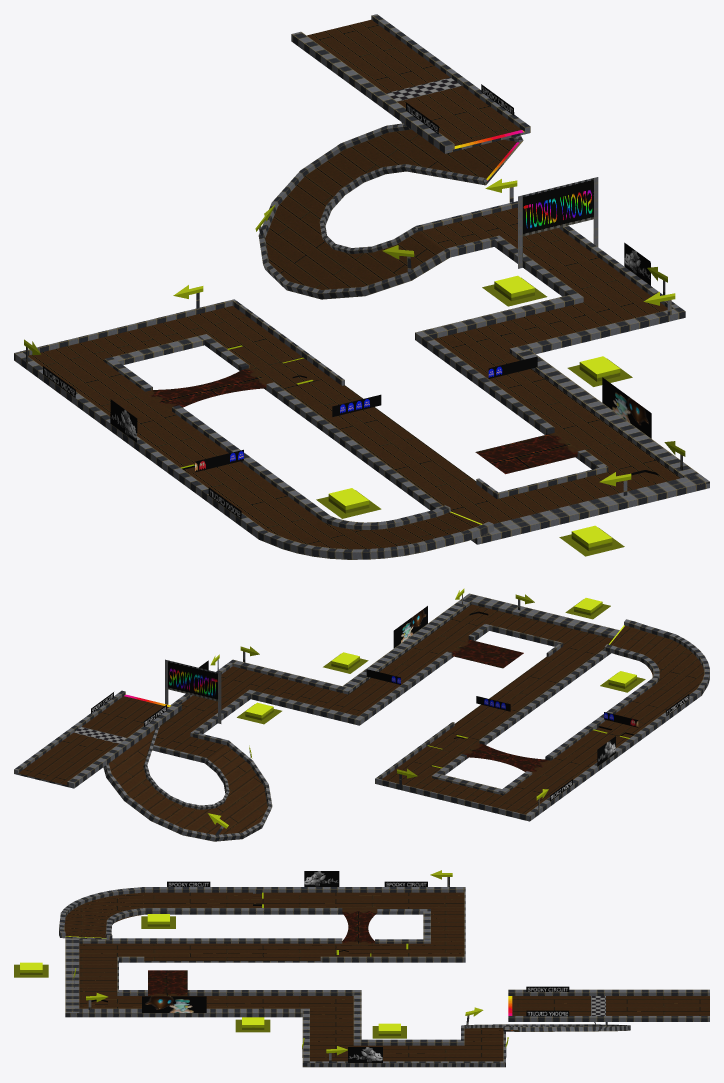
3 views of the same model, one above another, from view 1: azimuth 30°, elevation 25°; view 2: azimuth 150°, elevation 25°; view 3: azimuth 270°, elevation 25° (orthographic). The views are drawn at different scales.
Parts seen in each view (by area): view 1: course_model-SKP--Road.001, course_model-SKP--Wall, course_model-SKP--Bridges, course_model-SKP--Banner.001, course_model-SKP--ArrowBoost, course_model-SKP--Boosts, course_model-SKP--Ghosts, course_model-SKP--Decor2, course_model-SKP--TransBoost, course_model-SKP--ChisAd, course_model-SKP--Decor; view 2: course_model-SKP--Road.001, course_model-SKP--Wall, course_model-SKP--Bridges, course_model-SKP--Banner.001, course_model-SKP--ArrowBoost, course_model-SKP--Boosts, course_model-SKP--Ghosts, course_model-SKP--TransBoost, course_model-SKP--ChisAd, course_model-SKP--Decor; view 3: course_model-SKP--Road.001, course_model-SKP--Wall, course_model-SKP--Bridges, course_model-SKP--ArrowBoost, course_model-SKP--Decor2, course_model-SKP--ChisAd, course_model-SKP--Decor, course_model-SKP--Boosts, course_model-SKP--TransBoost.
Part boxes in pixels (<box>): course_model-SKP--Road.001: <box>28,19,680,549</box>; course_model-SKP--Wall: <box>14,14,709,559</box>; course_model-SKP--Bridges: <box>145,368,578,474</box>; course_model-SKP--Banner.001: <box>518,177,598,268</box>; course_model-SKP--ArrowBoost: <box>24,179,685,556</box>; course_model-SKP--Boosts: <box>180,275,619,543</box>; course_model-SKP--Ghosts: <box>195,356,537,472</box>; course_model-SKP--Decor2: <box>110,242,650,442</box>; course_model-SKP--TransBoost: <box>328,281,620,550</box>; course_model-SKP--ChisAd: <box>602,377,651,438</box>; course_model-SKP--Decor: <box>43,84,514,518</box>; course_model-SKP--Road.001: <box>18,604,704,834</box>; course_model-SKP--Wall: <box>14,593,709,841</box>; course_model-SKP--Bridges: <box>451,639,550,773</box>; course_model-SKP--Banner.001: <box>165,659,221,723</box>; course_model-SKP--ArrowBoost: <box>208,588,645,828</box>; course_model-SKP--Boosts: <box>245,598,636,768</box>; course_model-SKP--Ghosts: <box>366,669,638,727</box>; course_model-SKP--TransBoost: <box>245,602,636,720</box>; course_model-SKP--ChisAd: <box>393,606,427,648</box>; course_model-SKP--Decor: <box>91,692,689,801</box>; course_model-SKP--Road.001: <box>64,892,709,1061</box>; course_model-SKP--Wall: <box>59,877,709,1067</box>; course_model-SKP--Bridges: <box>148,911,377,995</box>; course_model-SKP--ArrowBoost: <box>14,870,508,1055</box>; course_model-SKP--Decor2: <box>304,871,382,1062</box>; course_model-SKP--ChisAd: <box>142,996,206,1012</box>; course_model-SKP--Decor: <box>167,881,569,1016</box>; course_model-SKP--Boosts: <box>20,892,408,1030</box>; course_model-SKP--TransBoost: <box>20,921,400,1035</box>.
Size of the model in its own units: 46017 by 10745 by 76464.
17 materials, 17 textured.
